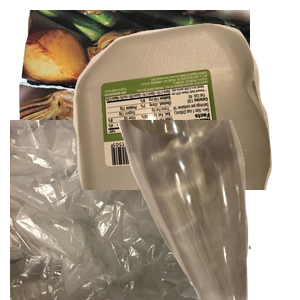glass: (115, 120, 300, 300)
paper: (16, 10, 256, 172)
plastic: (71, 21, 300, 201)
trash: (10, 120, 244, 300)
